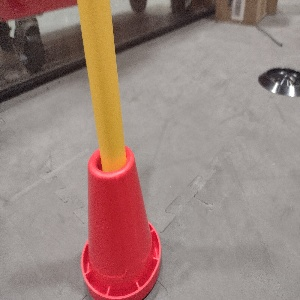Red_1: (79, 144, 163, 299)
